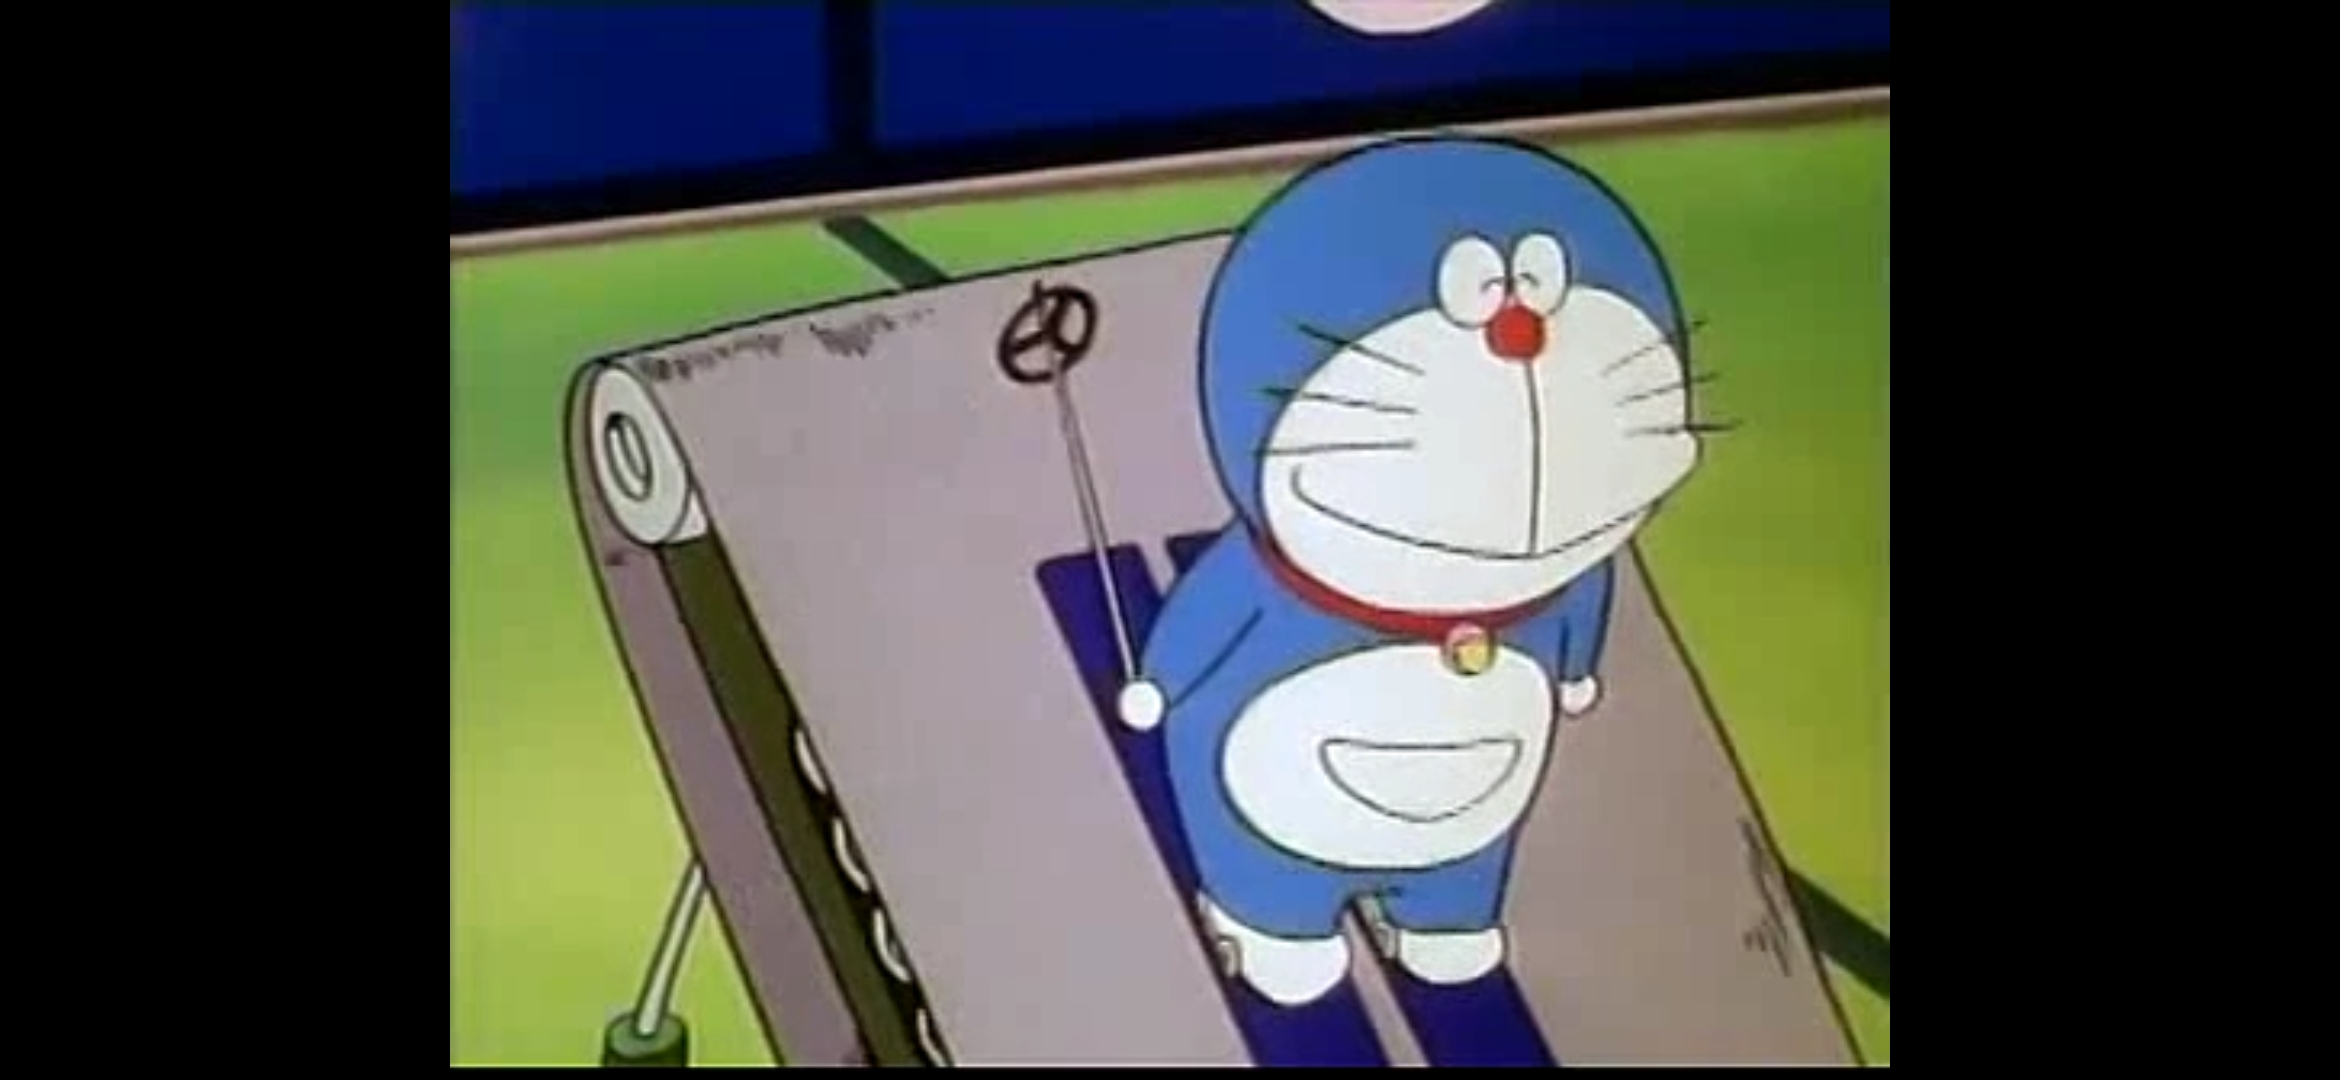Doraemon: (1195, 133, 1704, 674)
